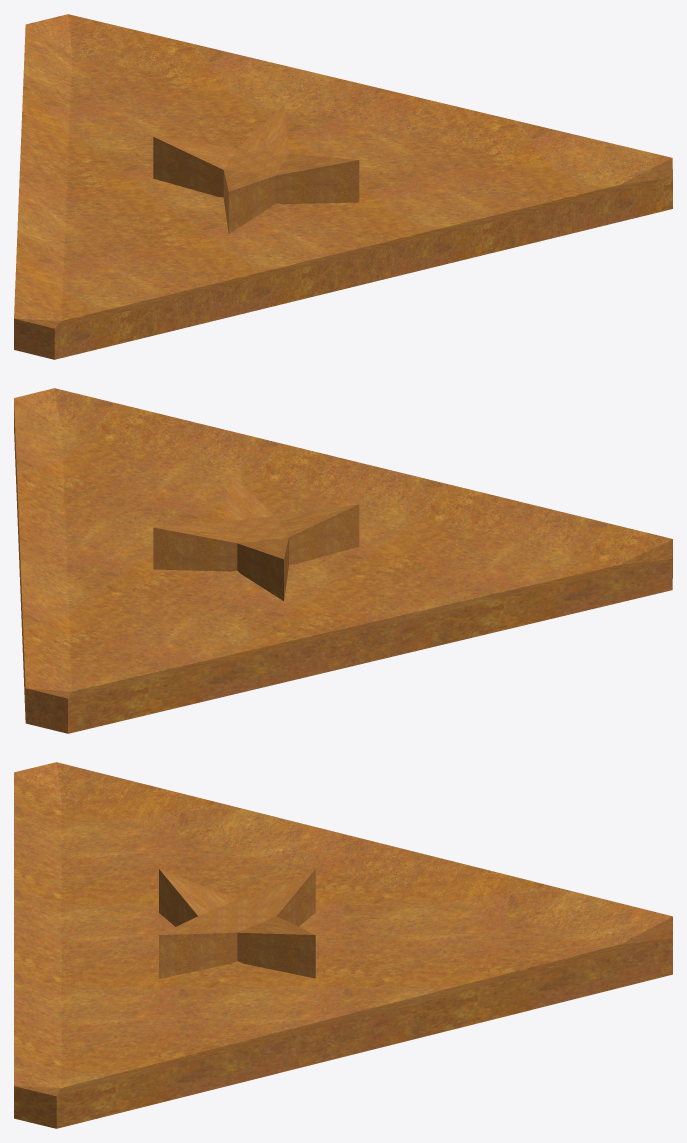
Rendered from tris.obj.
The picture shows the model from 3 angles, top to bottom: view 1: azimuth 30°, elevation 25°; view 2: azimuth 150°, elevation 25°; view 3: azimuth 270°, elevation 25°; orthographic projection. The views are drawn at different scales.
Parts seen in each view (by area): view 1: Cube_Cube.002_None_metal001.jpg, Cube.001_Cube.001_None_metal001.jpg; view 2: Cube_Cube.002_None_metal001.jpg, Cube.001_Cube.001_None_metal001.jpg; view 3: Cube_Cube.002_None_metal001.jpg, Cube.001_Cube.001_None_metal001.jpg.
Part boxes in pixels (x1=…): Cube_Cube.002_None_metal001.jpg: x1=14, y1=14, x2=672, y2=359; Cube.001_Cube.001_None_metal001.jpg: x1=153, y1=105, x2=359, y2=233; Cube_Cube.002_None_metal001.jpg: x1=14, y1=388, x2=672, y2=733; Cube.001_Cube.001_None_metal001.jpg: x1=153, y1=472, x2=359, y2=600; Cube_Cube.002_None_metal001.jpg: x1=14, y1=762, x2=672, y2=1128; Cube.001_Cube.001_None_metal001.jpg: x1=159, y1=869, x2=315, y2=978.
Bounding box in the file's own units: 40.33 × 3.5 × 33.61.
Materials: 1 (1 with a texture image).
